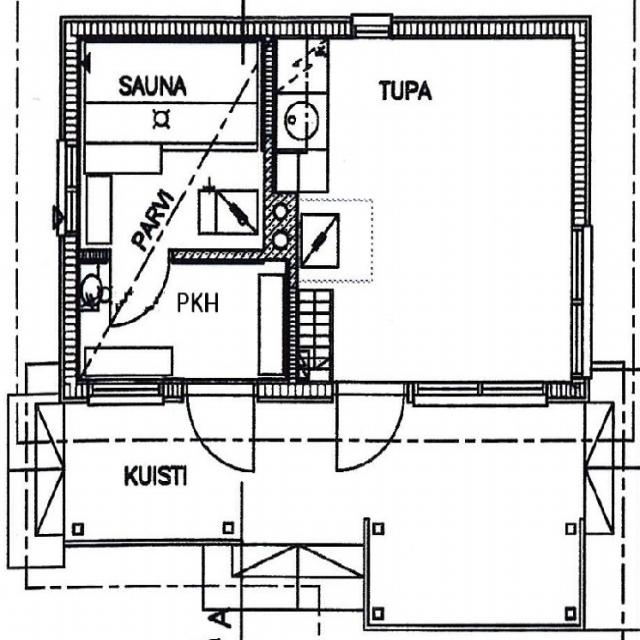door: (187, 382, 254, 481), (337, 382, 402, 480), (110, 248, 168, 330)
